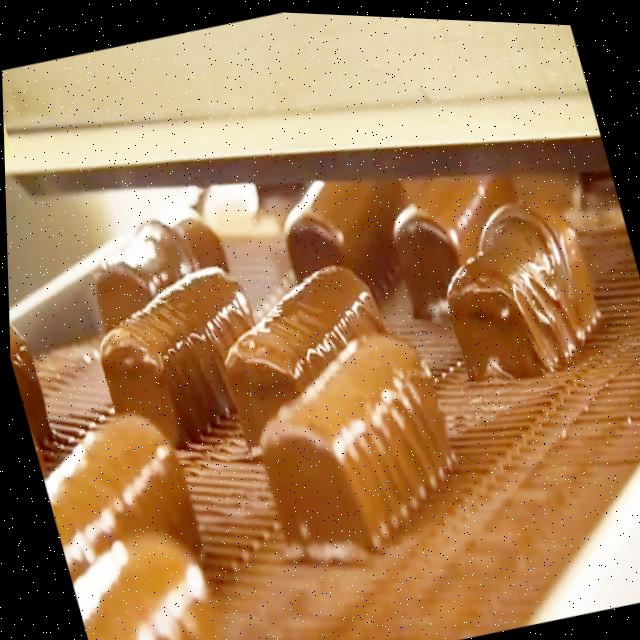Choco: (229, 307, 476, 572), (187, 235, 409, 457), (415, 171, 618, 406), (70, 243, 284, 464), (22, 378, 208, 598), (65, 187, 247, 359), (55, 501, 248, 640), (371, 167, 519, 326), (265, 171, 399, 320)
